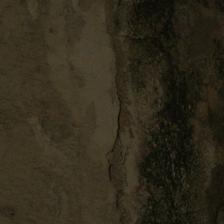Crack: (51, 19, 76, 169)
